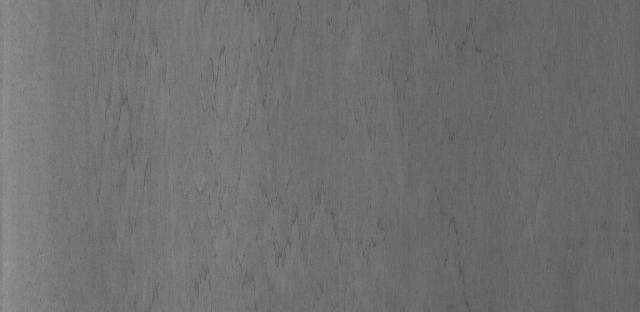silk_spot: (130, 12, 384, 308)
